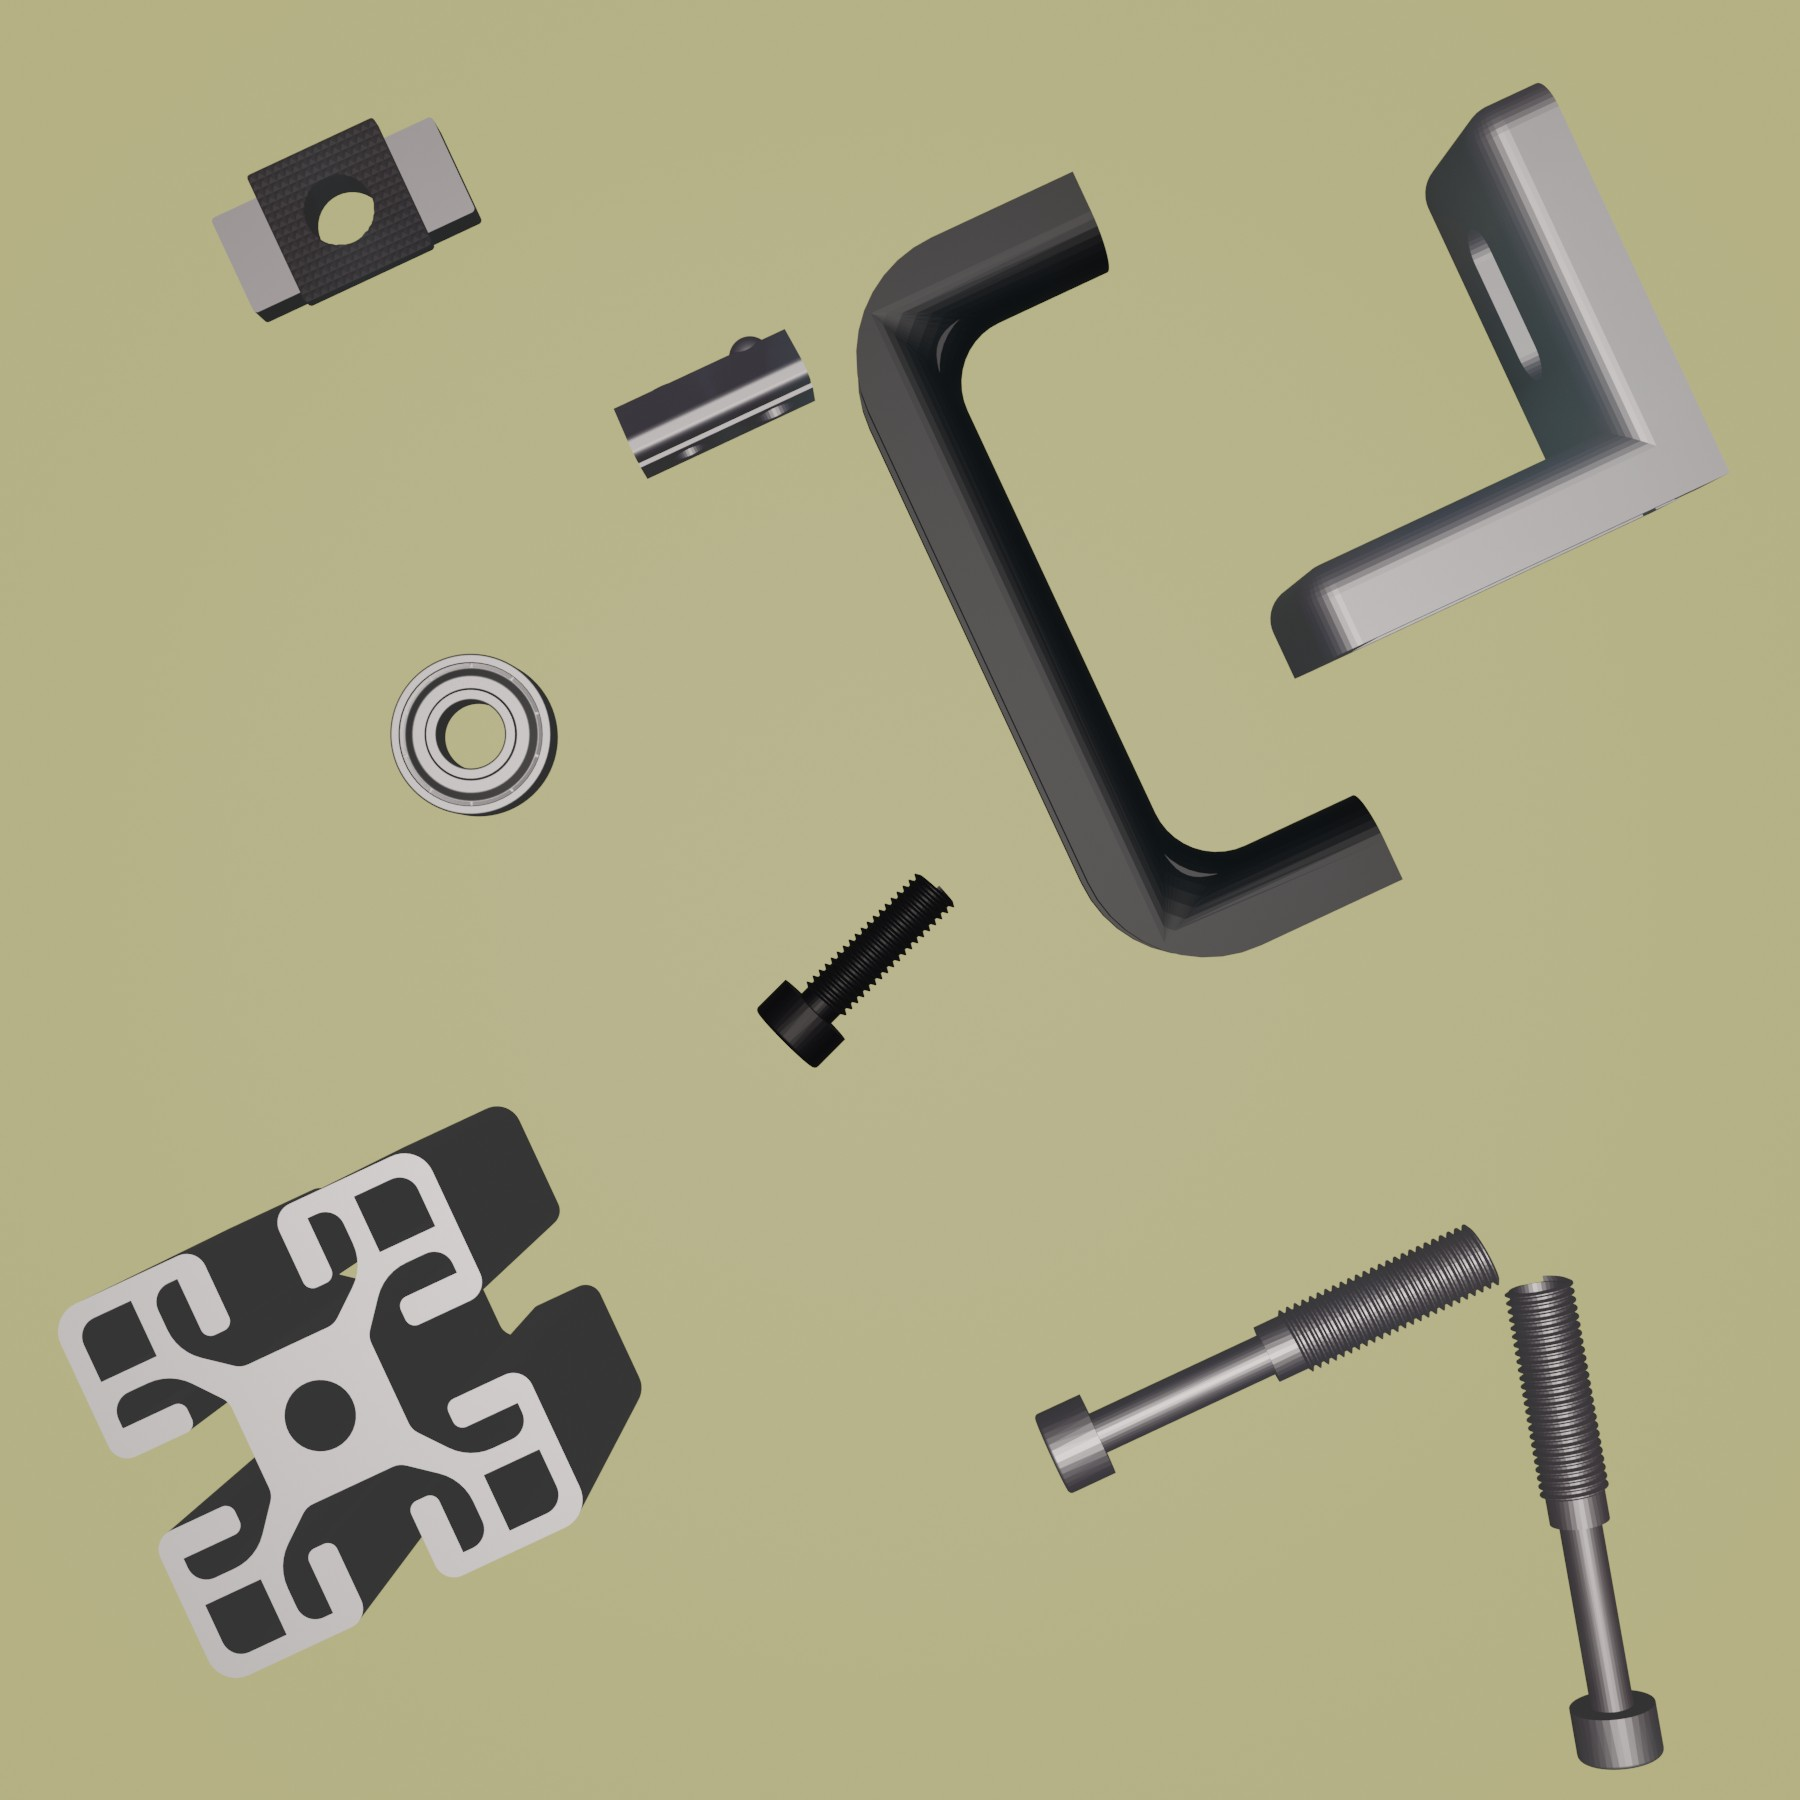Aluminium Extension: (54, 1103, 643, 1681)
Ball Bearing: (389, 651, 559, 818)
Multiwinkel: (1268, 77, 1732, 681)
Pull Handle: (854, 166, 1404, 958)
Shoulder Socket Head Cap Screw: (1032, 1220, 1502, 1495), (1502, 1269, 1666, 1774)
Socket Head Cap Screw: (755, 869, 954, 1071)
T Nut Square: (209, 112, 485, 326)
T Spring Nut: (612, 323, 819, 480)
